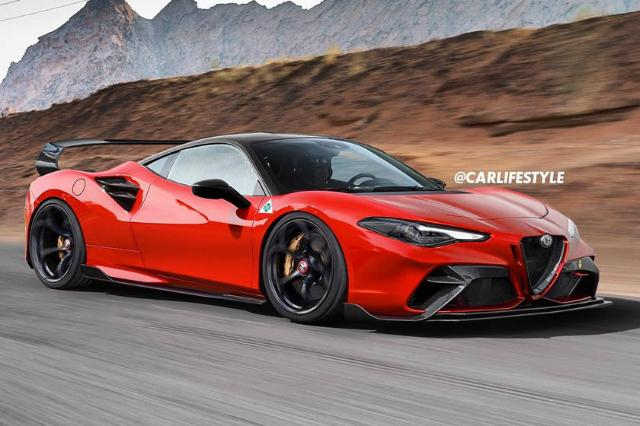alpha-romeo: (23, 132, 614, 332)
